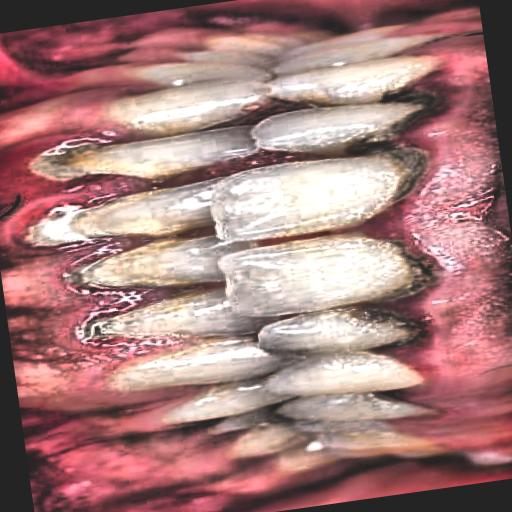Gingivitis: (0, 33, 200, 512), (325, 0, 512, 495)
